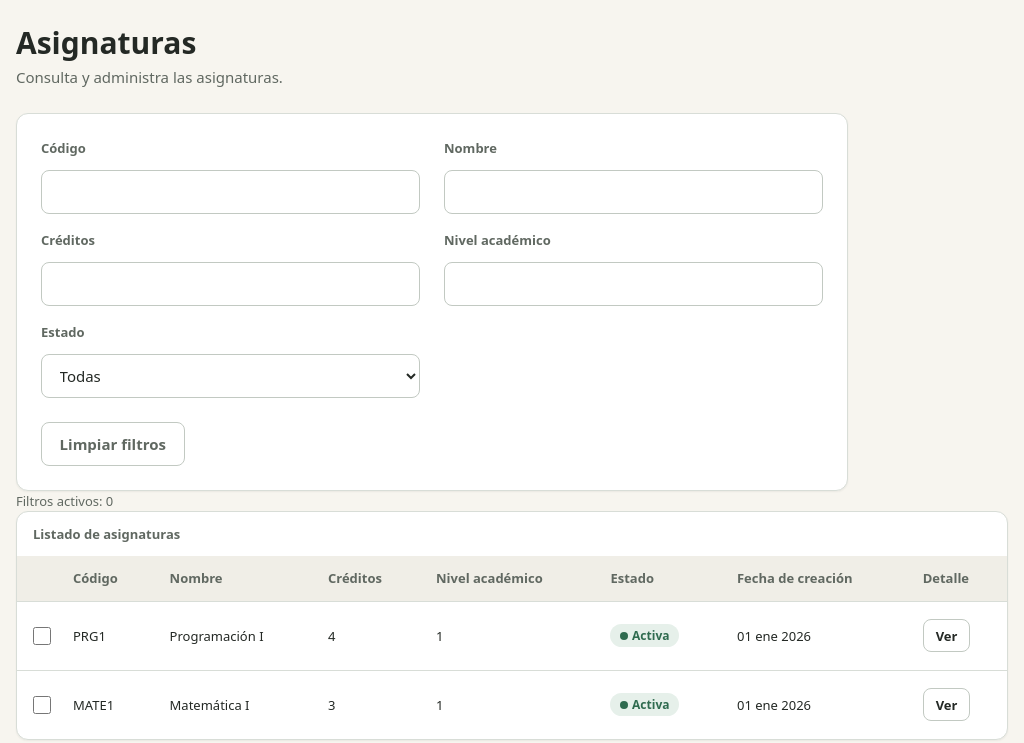
Test: ListadoAsignaturasComponent › no muestra acciones no permitidas en la barra contextual
Click the cell "PRG1" at (105, 636), box [57,601,154,670]
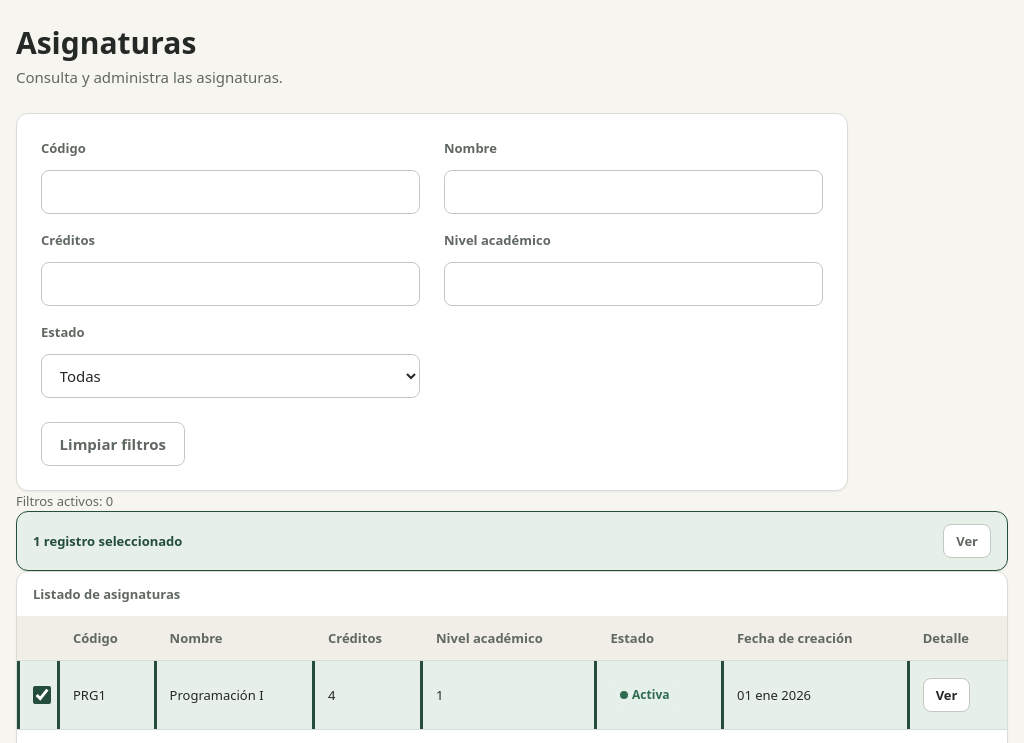
Check: the button "Ver" is shown, box [943,524,991,558]
